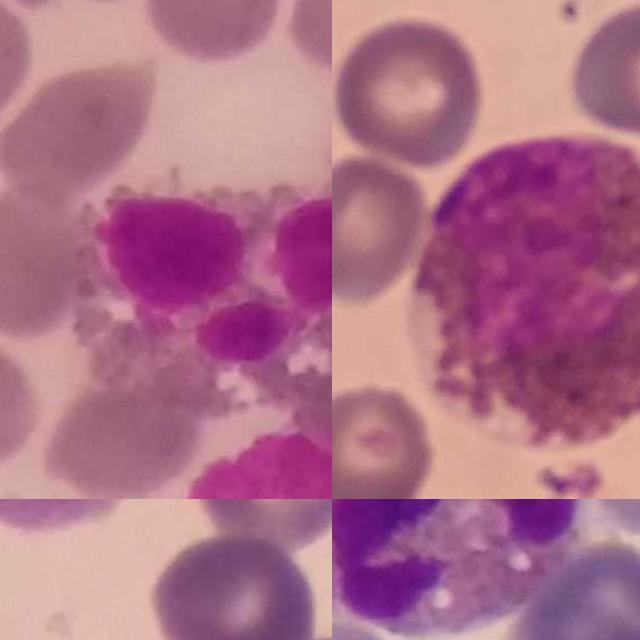Eosinophil: (73, 174, 332, 414), (332, 499, 585, 640)
Lymphocyte: (409, 136, 640, 443), (161, 418, 332, 499)
